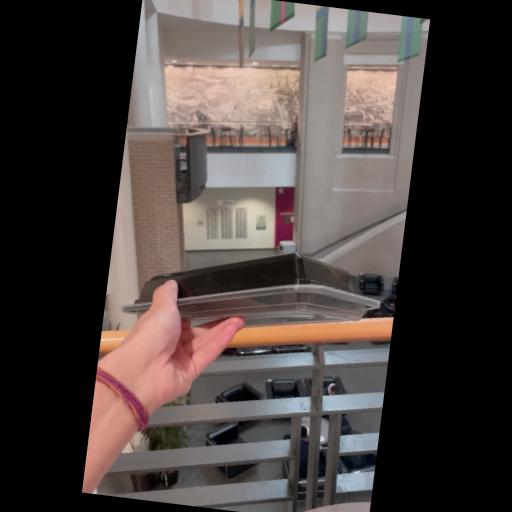rigid_plastic_container: (114, 226, 396, 364)
